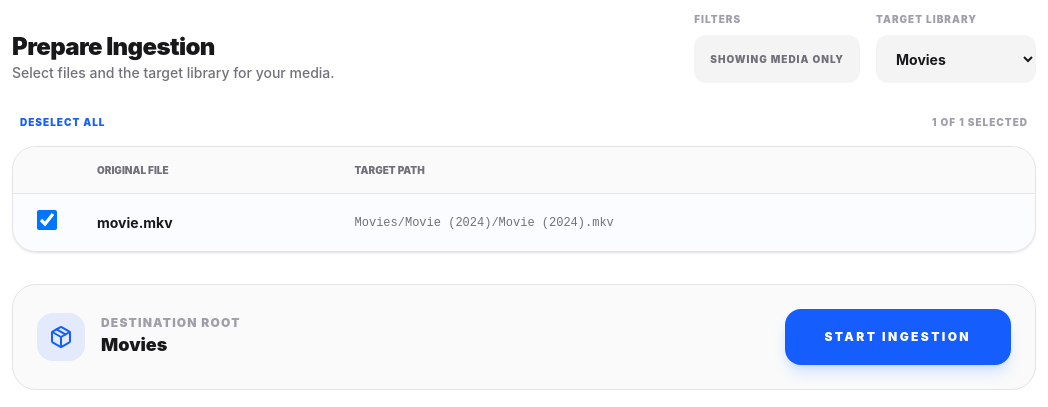
Scenario: IngestTab › displays suggestions and enables start button when files are selected
Expected: the text "movie.mkv" is shown, [97,214,173,231]
Expected: the button "Start Ingestion" is enabled, [784,309,1011,365]
Note: Toggle off the only selected item (in desktop table)
Click the checkbox.
click(47, 220)  # box [37,210,57,230]
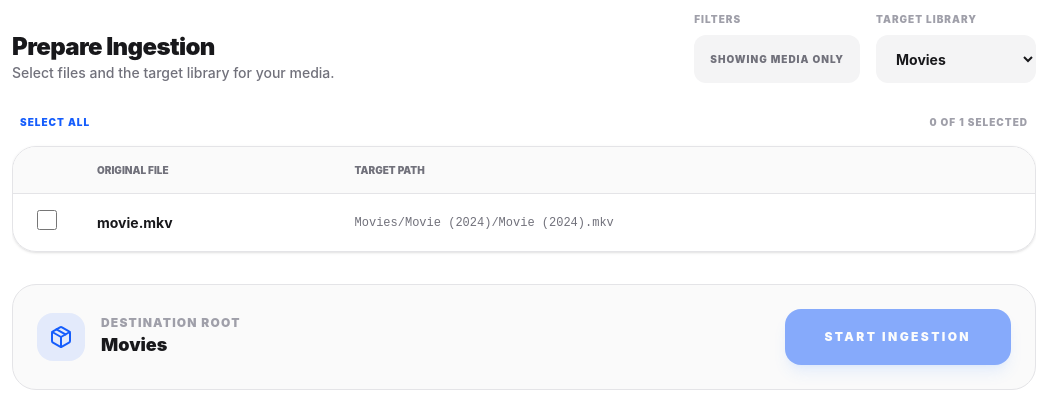
Result: the button "Start Ingestion" is disabled at [784,309,1011,365]
